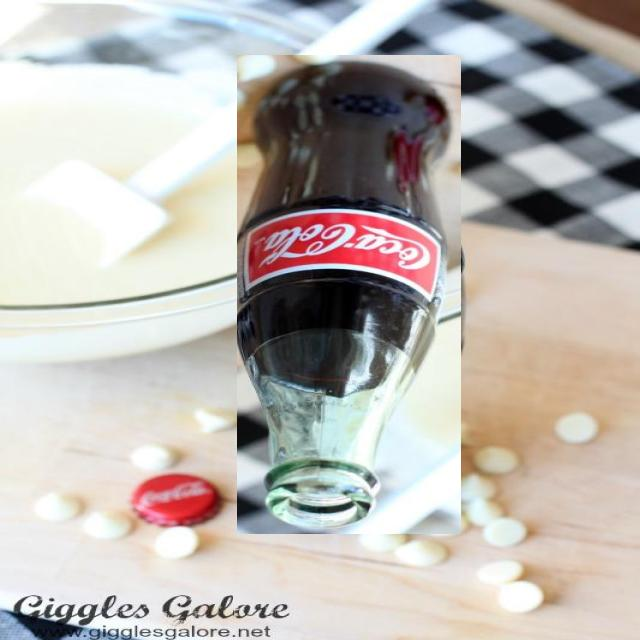coca-cola: (237, 55, 461, 534)
